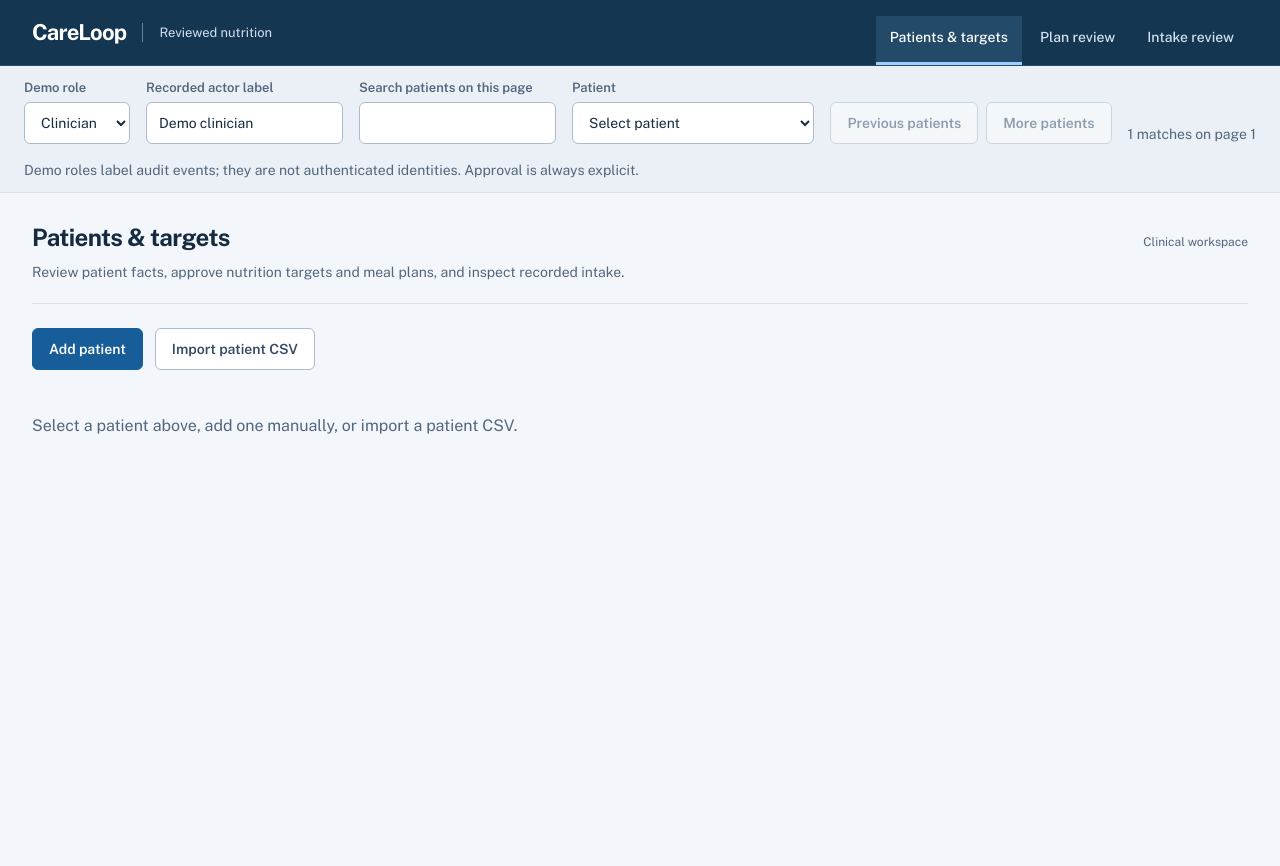
it: new contracts load patient context and retain it across demo roles without automatic approval
This screenshot has width=1280, height=866.
Select "UI test patient" in the dropdown labelled "Patient": (693, 122) [572, 102, 814, 144]
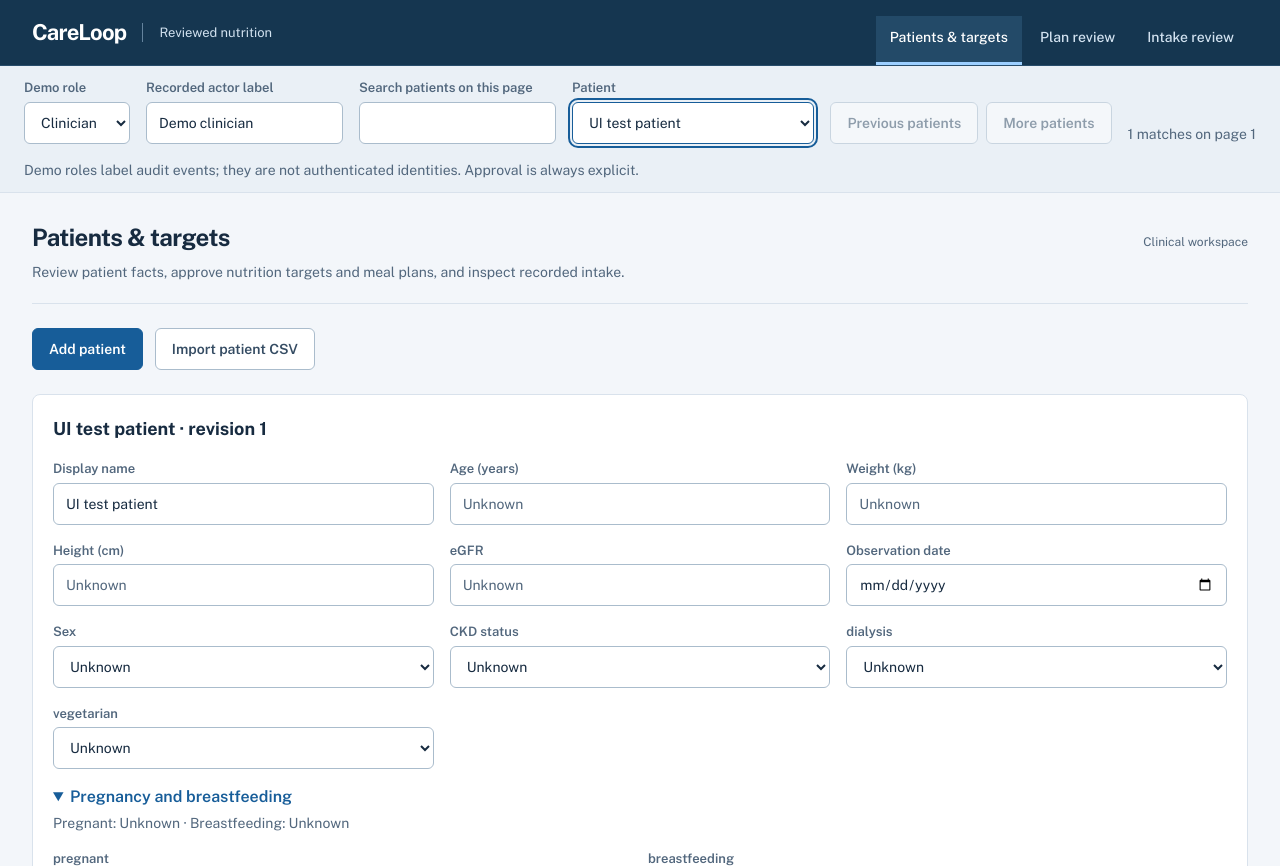
Expected: the heading "UI test patient · revision 1" is shown, [53, 418, 267, 439]
Select "Patient" in the dropdown labelled "Demo role": (77, 122) [24, 102, 130, 144]
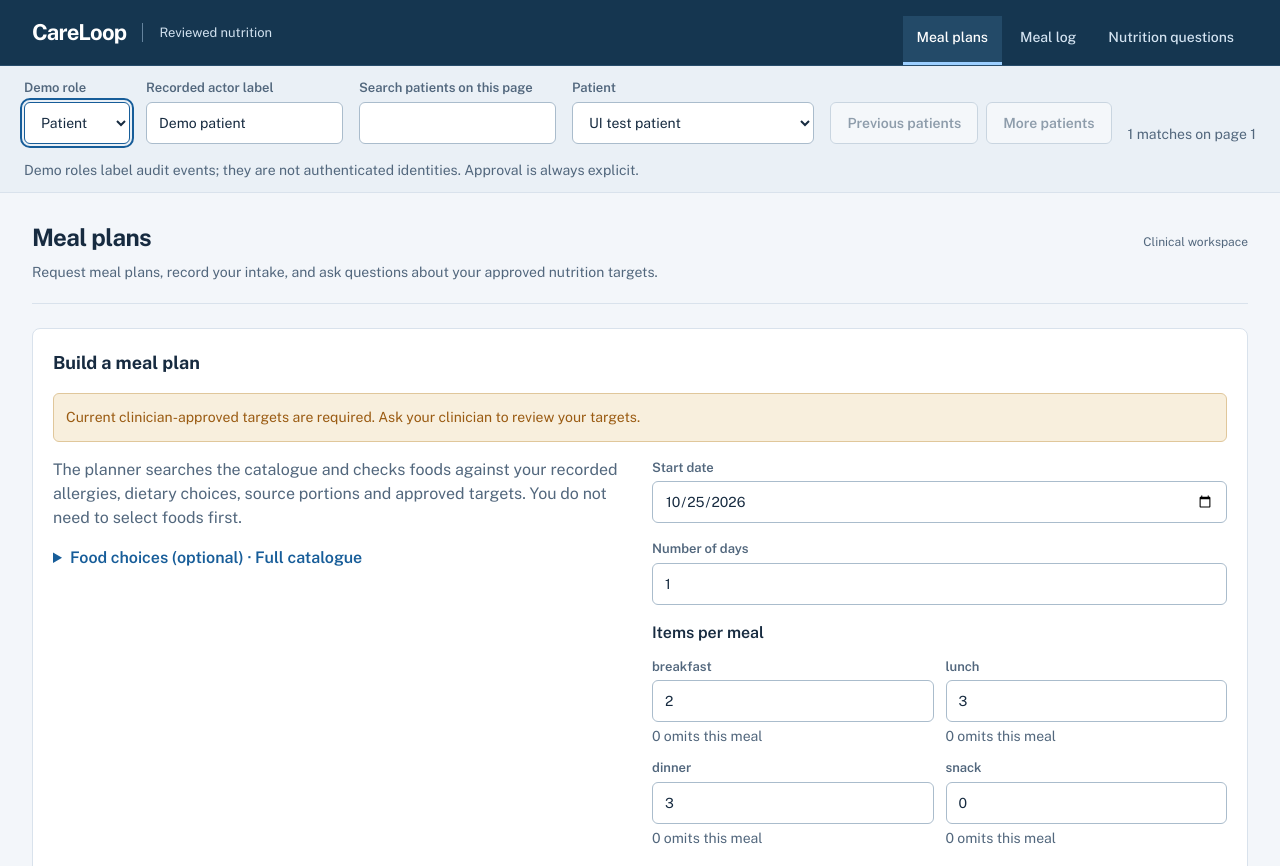
Expected: the heading "Meal plans" is shown, [32, 220, 151, 252]
Expected: the link "Patients & targets" is gone
